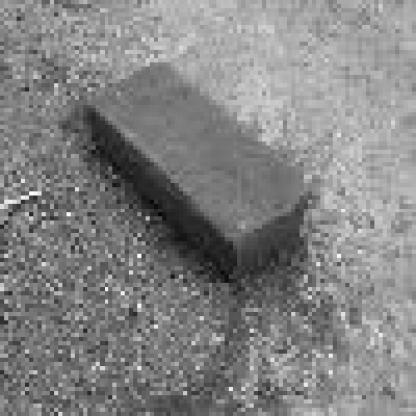brick: (81, 58, 316, 280)
